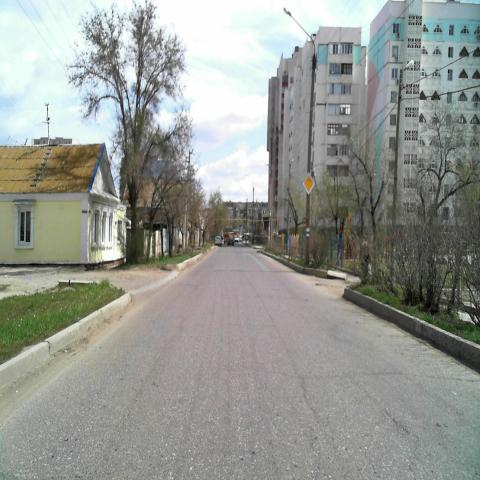2_1: (303, 172, 315, 195)
